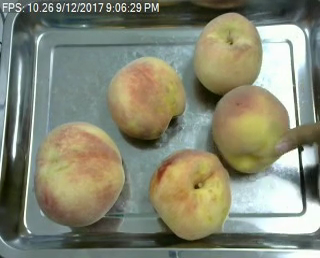Peach: (35, 119, 125, 224), (149, 149, 231, 241), (210, 83, 291, 173), (107, 55, 187, 140), (193, 12, 264, 96)
